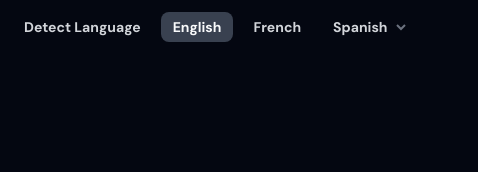
LanguageTabs › opens the dropdown and selects an overflow language
This screenshot has width=478, height=172.
Click the button "Spanish" at (371, 27), box [321,12,422,42]
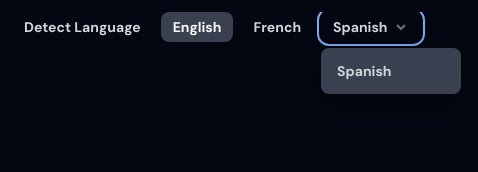
Click the option "Spanish" at (391, 71), box [327,54,455,88]
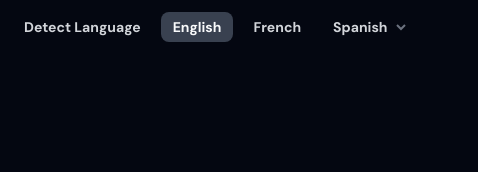
Expected: the list is gone
